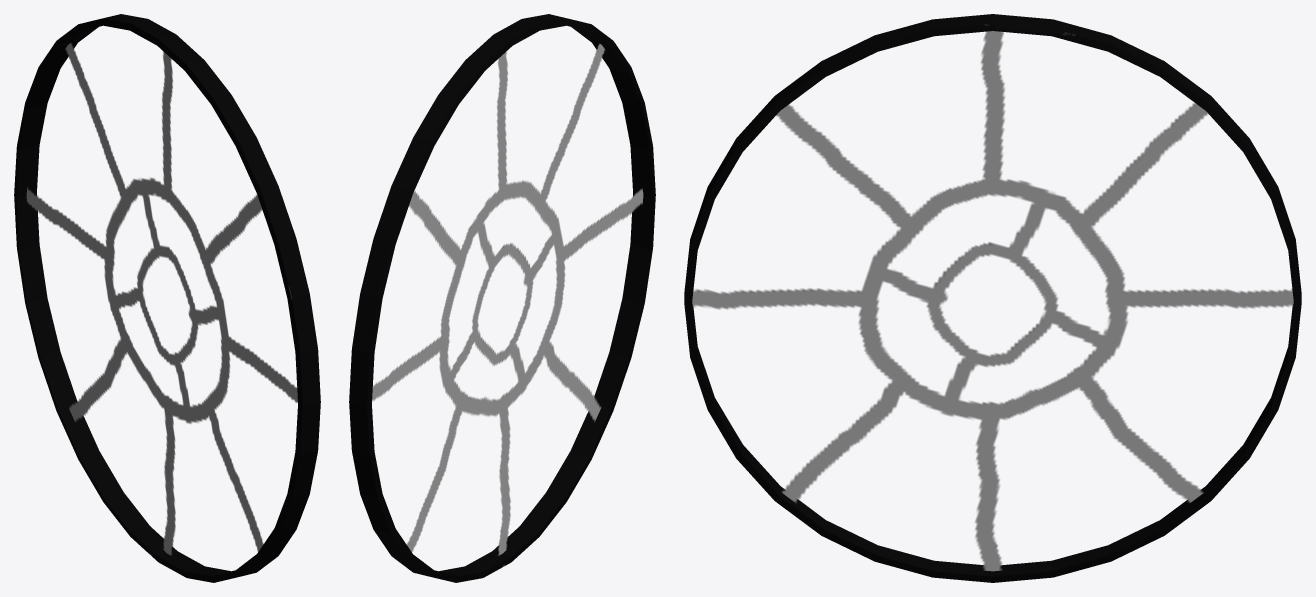
Rendered from oar_wheel.glb.
3 renders of one model, left to right at view 1: azimuth 30°, elevation 25°; view 2: azimuth 150°, elevation 25°; view 3: azimuth 270°, elevation 25°, orthographic. The views are drawn at different scales.
Parts seen in each view (by area): view 1: Circle; view 2: Circle; view 3: Circle.
Boxes of the visible parts, x1,y1,x2,y2 form: Circle: [14, 14, 320, 582]; Circle: [349, 14, 655, 582]; Circle: [684, 14, 1301, 582].
Bounding box in the file's own units: 0.2021 × 4.95 × 4.95.
Materials: 1 (1 with a texture image).
